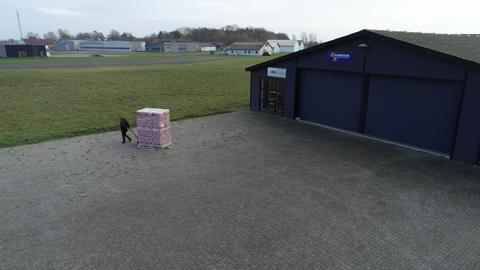RockwoolPallet: (136, 107, 173, 150)
